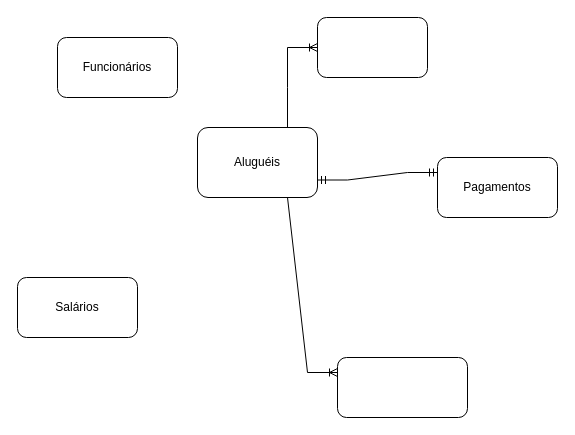
This 575x435 diagram has some shape labels left out. Each missing label, with the box of its shape:
Carros: (316, 16, 428, 78)
Clientes: (336, 356, 468, 418)
